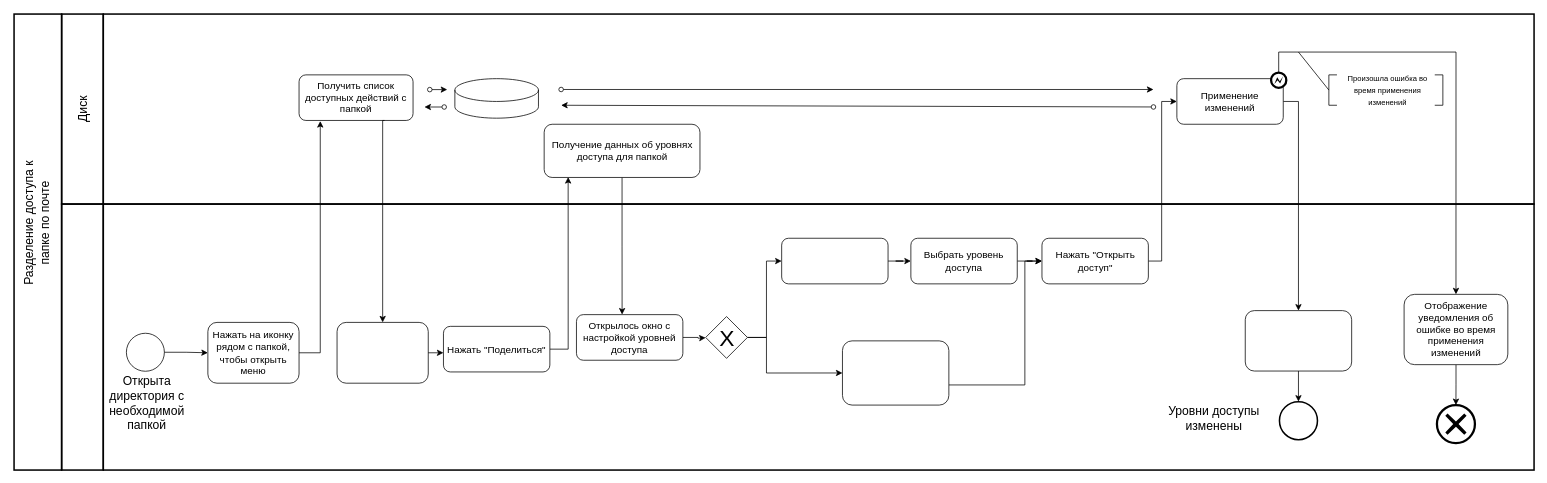
Some shapes in this 1547 by 483 pixel diagram are drawn without their labels. Each missing label, with the centre of its shape:
БД Облака: point (496, 98)
Ввести почту/отдел в поле ввода: point (834, 261)
Нажать "Закрыть доступ" напротив требуемого пользователя/отдела: point (895, 372)
Открыто меню действий с папкой: point (382, 352)
Отображение уведомления о том, что уровни доступа изменены: point (1298, 340)
Сотрудник: point (82, 336)
